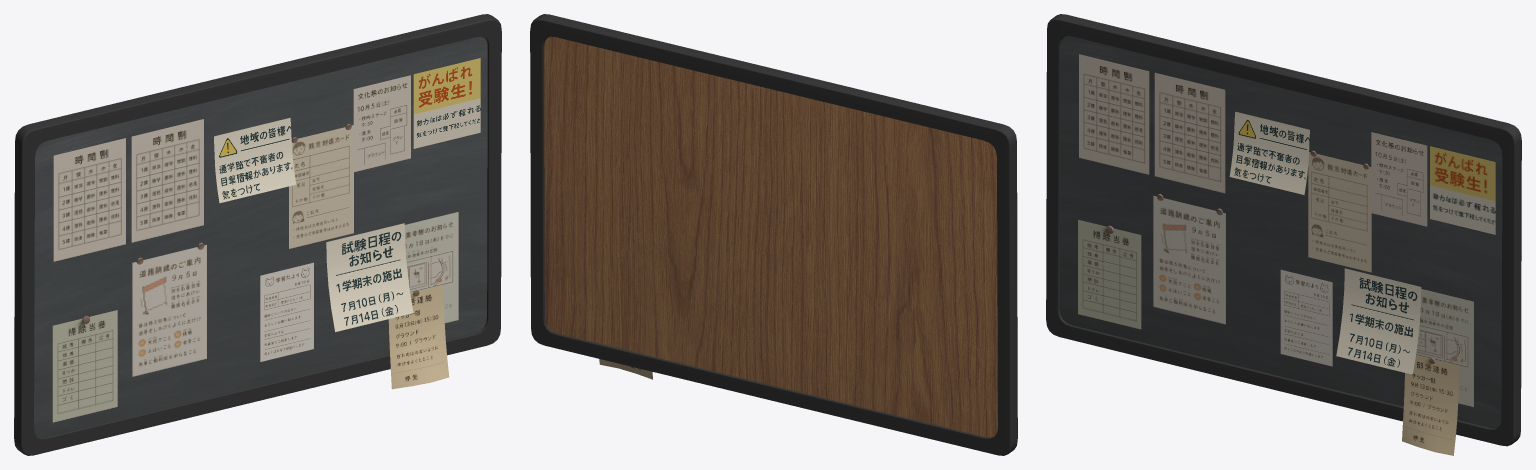
Rendered from SM_pinboard_04.fbx.
3 renders of one model, left to right at view 1: azimuth 30°, elevation 25°; view 2: azimuth 150°, elevation 25°; view 3: azimuth 330°, elevation 25°, orthographic. The views are drawn at different scales.
Parts seen in each view (by area): view 1: pinboard004; view 2: pinboard004; view 3: pinboard004.
Part boxes in pixels (x1=…): pinboard004: x1=14, y1=14, x2=501, y2=455; pinboard004: x1=530, y1=14, x2=1017, y2=455; pinboard004: x1=1046, y1=14, x2=1521, y2=455.
Bounding box in the file's own units: 86.23 × 58.93 × 4.93.
5 materials, 4 textured.
